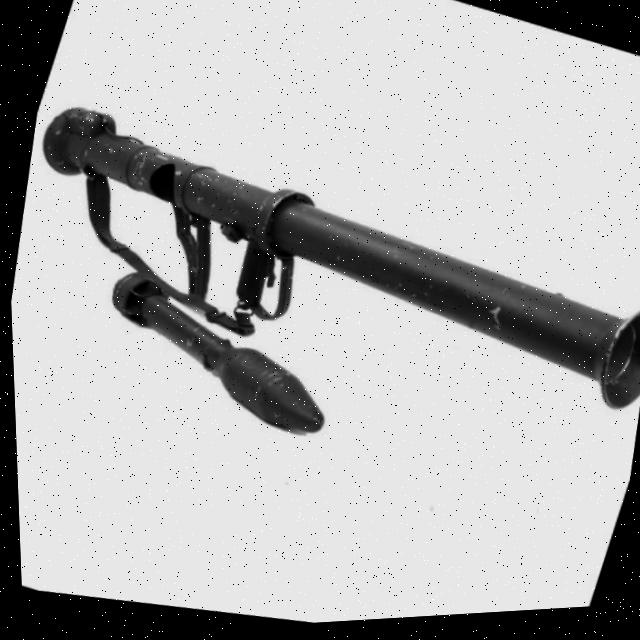rocket: (3, 67, 640, 546)
